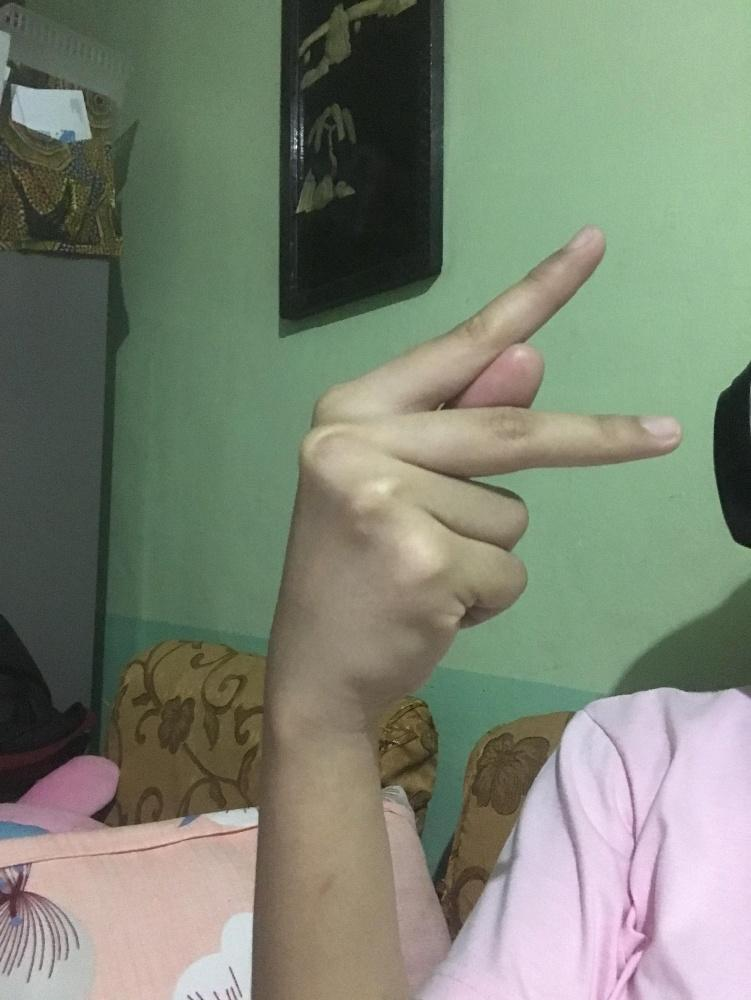k: (261, 214, 690, 719)
